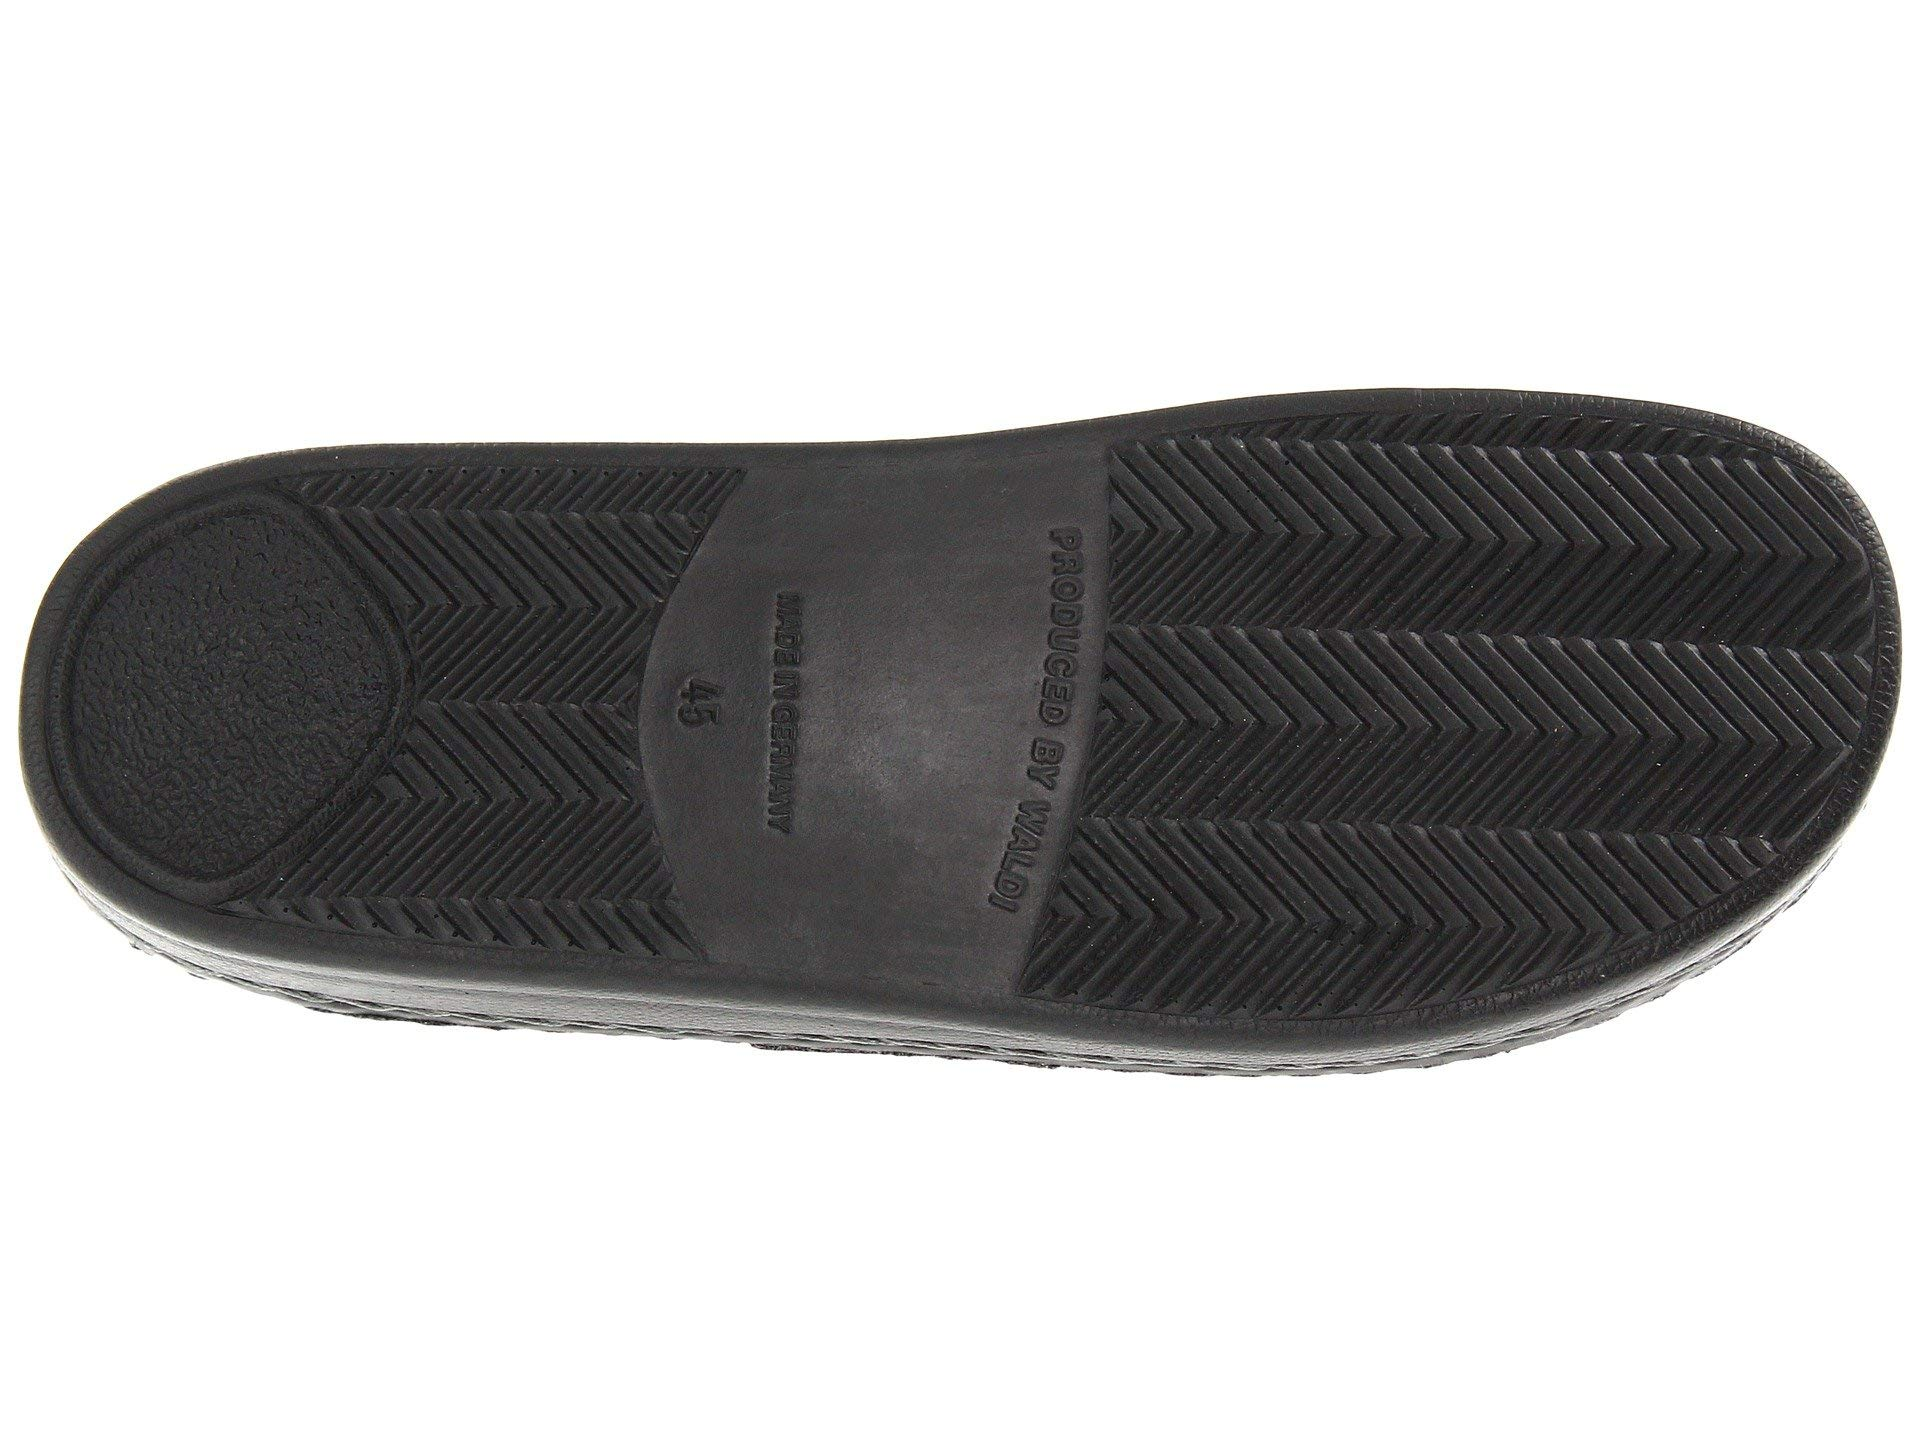chevron: (1169, 486, 1565, 906), (1587, 478, 1861, 765), (364, 502, 626, 771)
